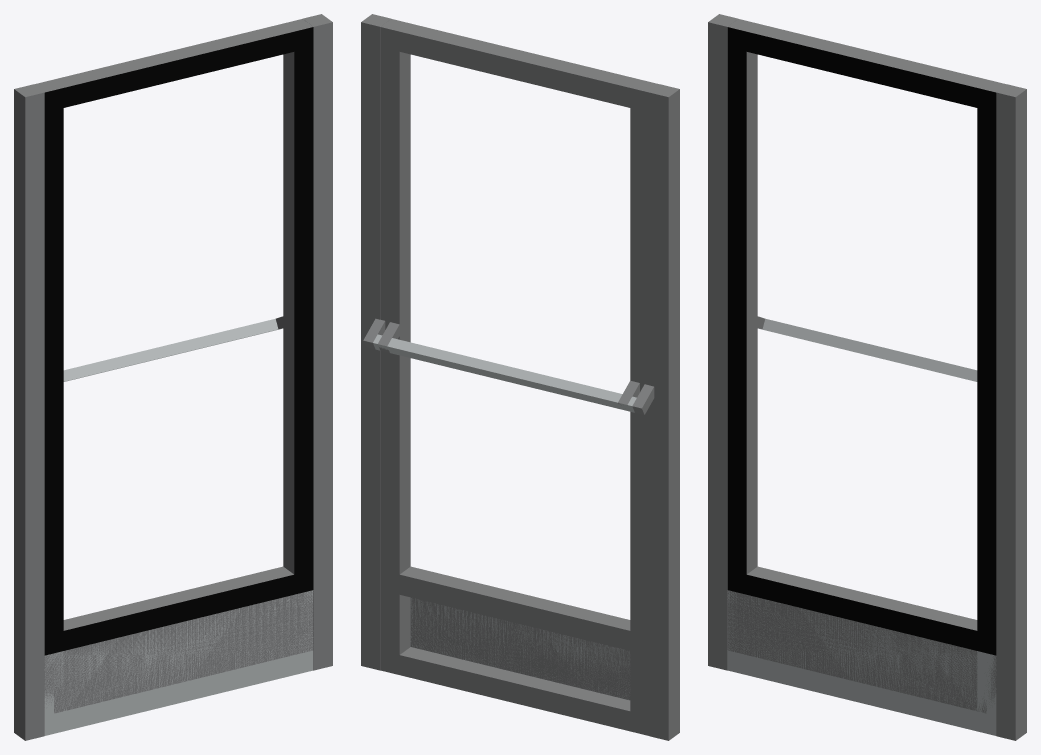
Rendered from kaba_duanmen.obj.
3 views of the same model, side by side, from view 1: azimuth 30°, elevation 25°; view 2: azimuth 150°, elevation 25°; view 3: azimuth 330°, elevation 25° (orthographic).
Visible parts, largest first — view 1: door_right, door_left, main_right, main_left; view 2: door_right, door_left, main_right, main_left; view 3: door_right, door_left, main_left, main_right.
Part boxes in pixels (bbox=[...]): door_right: bbox=[34, 19, 313, 730]; door_left: bbox=[35, 19, 313, 735]; main_right: bbox=[14, 84, 44, 740]; main_left: bbox=[302, 14, 332, 670]; door_right: bbox=[363, 19, 659, 733]; door_left: bbox=[378, 19, 659, 735]; main_right: bbox=[649, 84, 679, 740]; main_left: bbox=[361, 14, 391, 670]; door_right: bbox=[727, 19, 1006, 735]; door_left: bbox=[727, 20, 1006, 712]; main_left: bbox=[996, 84, 1026, 740]; main_right: bbox=[708, 14, 738, 670].
Size of the model in its own units: 1 by 2 by 0.1326.
Materials: 3 (3 with a texture image).
